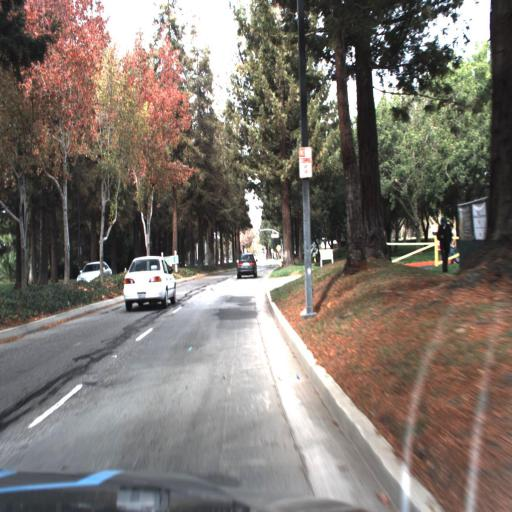car: (122, 252, 180, 310), (74, 259, 112, 283), (235, 250, 259, 280)
